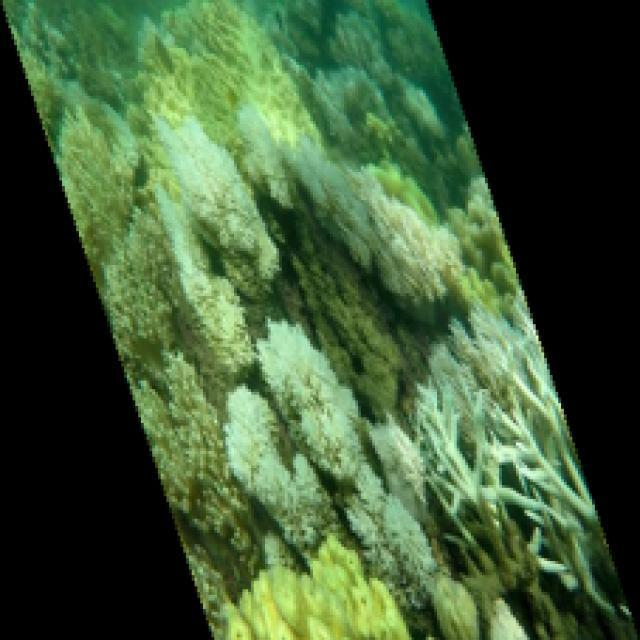Bleached: (419, 292, 640, 622), (238, 100, 462, 304), (261, 319, 432, 580), (151, 111, 282, 279), (155, 189, 260, 375), (225, 383, 324, 546), (488, 598, 528, 640)
Healthy: (222, 540, 410, 640)
